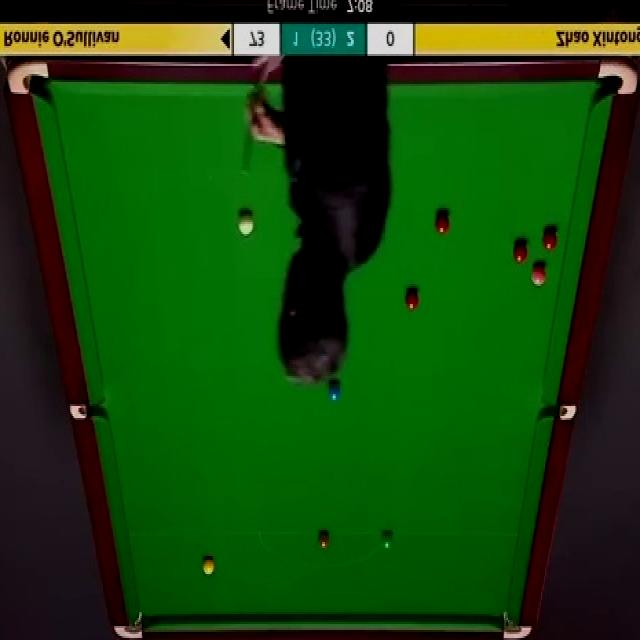blue-ball: (328, 379, 341, 401)
brown-ball: (318, 530, 330, 547)
green-ball: (382, 530, 393, 550)
pink-ball: (531, 262, 548, 287)
red-ball: (433, 210, 451, 235), (405, 288, 420, 313), (541, 229, 558, 249), (513, 241, 528, 262)
white-ball: (238, 209, 256, 236)
yellow-ball: (202, 554, 216, 574)
